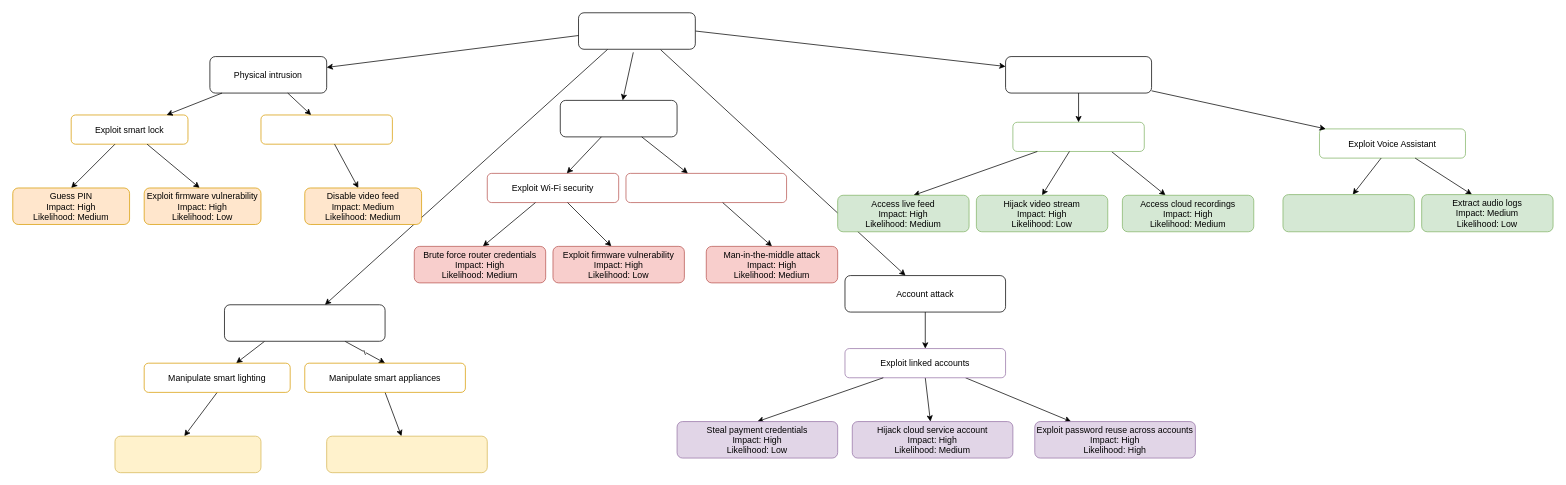
This 1566x485 diagram has some shape labels left out. Here are the shapes that lost their labels. From the top down, the centre of each, then its label:
(636,30): Smart home compromise
(1078,74): Data theft / Privacy invasion
(326,129): Bypass smart doorbell
(618,118): Network attack
(1078,136): Exploit Furbo Camera
(706,188): Intercept IoT communications
(1348,213): Eavesdrop conversations Impact: High Likelihood: Medium
(304,322): Device desruption
(187,454): Exploit Hue bridge Impact: Low Likelihood: Medium
(406,454): Change Air fryer schedule Impact: Low Likelihood: Medium
